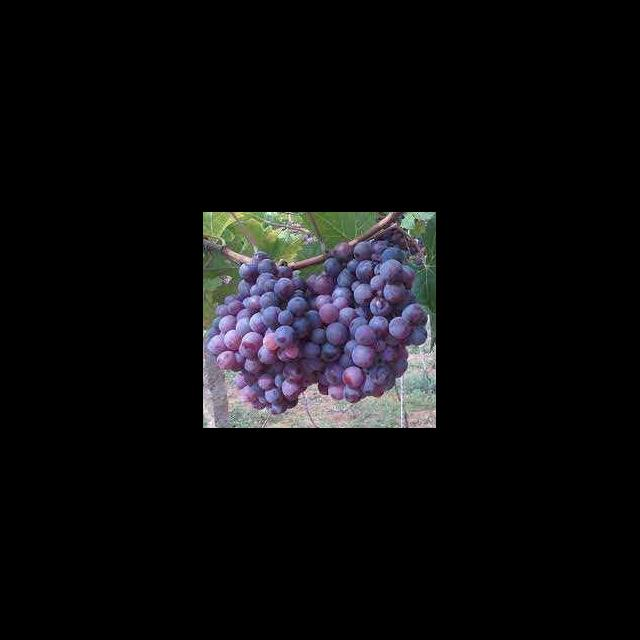grape: (204, 235, 428, 415)
